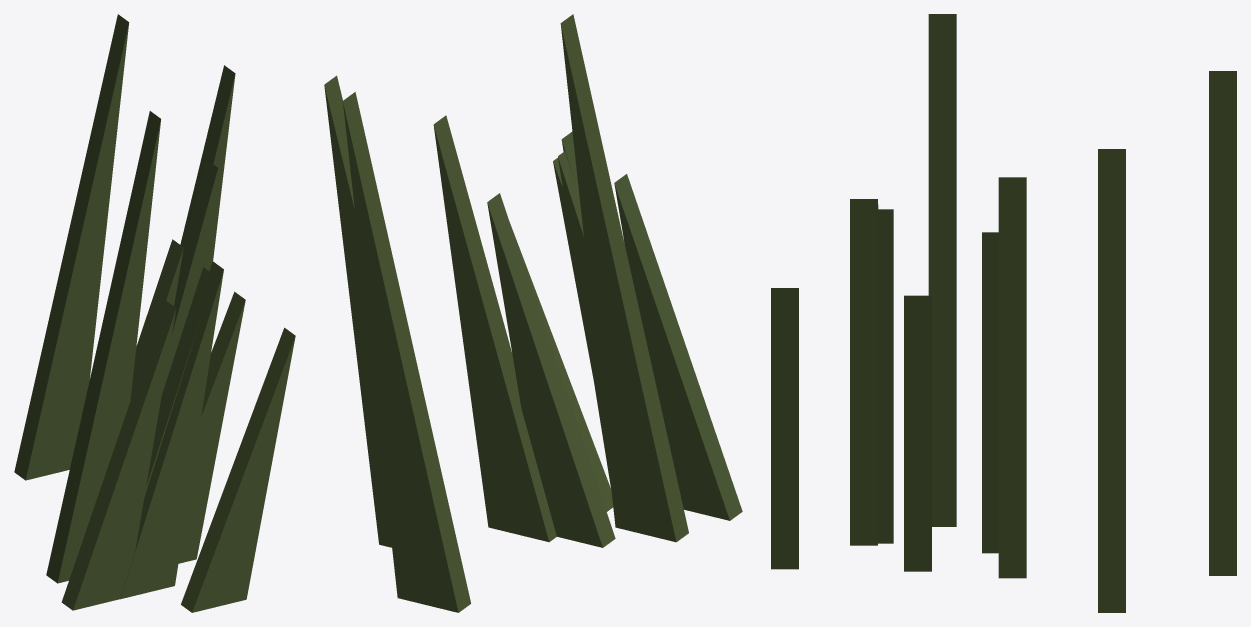
File: SM_ENV_Grass_02_Dense.glb
3 renders of one model, left to right at view 1: azimuth 30°, elevation 25°; view 2: azimuth 150°, elevation 25°; view 3: azimuth 270°, elevation 25°, orthographic. The views are drawn at different scales.
Parts seen in each view (by area): view 1: SM_ENV_Grass_02_Dense; view 2: SM_ENV_Grass_02_Dense; view 3: SM_ENV_Grass_02_Dense.
Boxes of the visible parts, bbox=[...] form: SM_ENV_Grass_02_Dense: bbox=[14, 14, 295, 612]; SM_ENV_Grass_02_Dense: bbox=[324, 14, 742, 612]; SM_ENV_Grass_02_Dense: bbox=[771, 14, 1236, 612].
Size of the model in its own units: 0.241 by 0.3849 by 0.2994.
